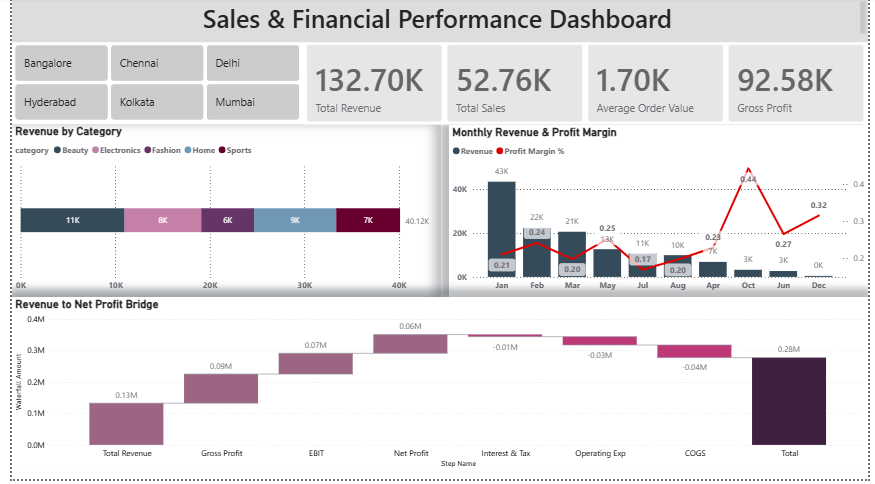

The page's visual inventory and layout, read from the dashboard file:
{"tool":"powerbi","page":{"name":"Overview","canvas":[1280,720],"ordinal":3},"visuals":[{"type":"advancedSlicerVisual","fields":{"Values":["customers.city"]},"box":[0,67.2,436.2,122.5],"z":0},{"type":"lineClusteredColumnComboChart","title":"Monthly Revenue & Profit Margin","fields":{"Y":["Meausres.Total Revenue"],"Y2":["Meausres.Profit Margin %"],"Category":["DateTable.Month Name"]},"box":[652.8,191.2,627.4,256.9],"z":1000},{"type":"barChart","title":"Revenue by Category","fields":{"Series":["products.category"],"Y":["Meausres.Total Cost"]},"box":[0,189.7,640.8,258.4],"z":2000},{"type":"cardVisual","fields":{"Data":["Meausres.Total Revenue","Meausres.Total Sales","Meausres.Average Order Value","Meausres.Gross Profit"]},"box":[436.2,67.9,843.8,123.4],"z":3000},{"type":"waterfallChart","title":"Revenue to Net Profit Bridge","fields":{"Category":["Finance Steps.Step Name"],"Y":["Finance Steps.Waterfall Amount"]},"box":[0,448.1,1280.2,259.9],"z":4000},{"type":"textbox","box":[0,1.8,1280,66.1],"z":4001}]}

Visuals, with their boxes in screenshot pixels (x1, y1, x2, y2), scaled from the page's 1280x720 canvas onto the 875x484 screenshot:
advancedSlicerVisual - customers.city: box(0, 45, 298, 128)
"Monthly Revenue & Profit Margin" lineClusteredColumnComboChart: box(446, 129, 874, 301)
"Revenue by Category" barChart: box(0, 128, 438, 301)
cardVisual - Meausres.Total Revenue x Meausres.Total Sales: box(298, 46, 874, 129)
"Revenue to Net Profit Bridge" waterfallChart: box(0, 301, 874, 476)
textbox: box(0, 1, 874, 46)
